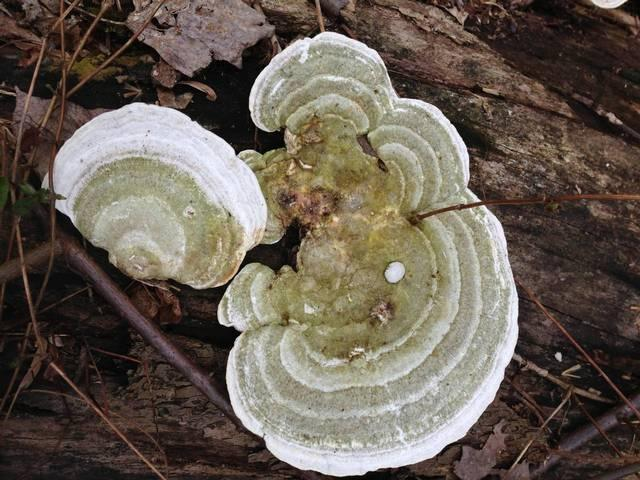Non-edible Mushroom: (216, 30, 520, 476), (39, 100, 268, 290)
